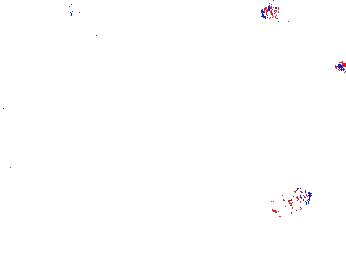X-ray fish: (263, 187, 315, 211), (255, 1, 295, 21)
glassfish: (299, 180, 346, 214)
red belly glassfish: (68, 3, 84, 21), (333, 56, 346, 75)
